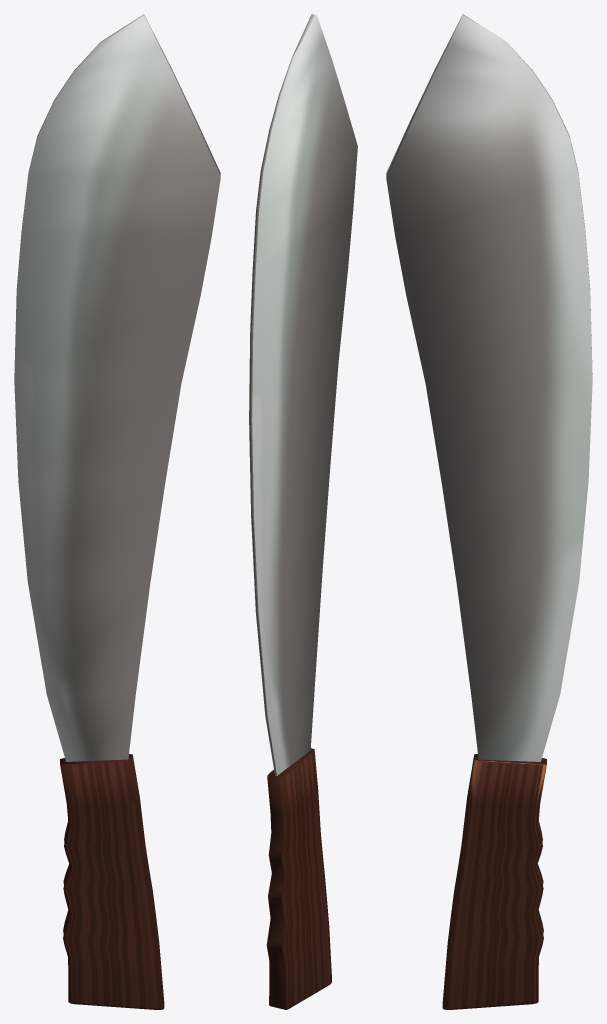
File: knife.fbx
The picture shows the model from 3 angles, left to right: view 1: azimuth 90°, elevation 25°; view 2: azimuth 150°, elevation 25°; view 3: azimuth 270°, elevation 25°; orthographic projection.
Parts seen in each view (by area): view 1: Plane; view 2: Plane; view 3: Plane.
Part boxes in pixels (x1,y1,x2,y2): Plane: (14,14,220,1009); Plane: (249,14,357,1009); Plane: (386,14,592,1009).
Bounding box in the file's own units: 99.67 × 4831 × 912.
